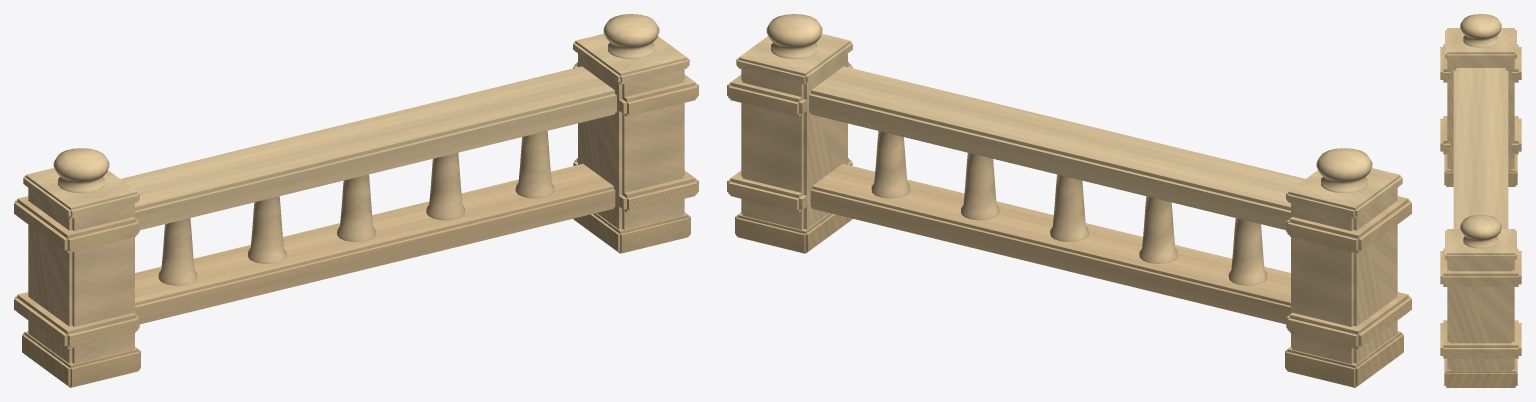
Rendered from summit-rail.glb.
3 renders of one model, left to right at view 1: azimuth 30°, elevation 25°; view 2: azimuth 150°, elevation 25°; view 3: azimuth 270°, elevation 25°, orthographic. The views are drawn at different scales.
Parts seen in each view (by area): view 1: Moonbay observatory ivory stone balustrade; view 2: Moonbay observatory ivory stone balustrade; view 3: Moonbay observatory ivory stone balustrade.
Boxes of the visible parts, left/top/right/bottom form: Moonbay observatory ivory stone balustrade: left=14, top=14, right=698, bottom=387; Moonbay observatory ivory stone balustrade: left=727, top=14, right=1411, bottom=387; Moonbay observatory ivory stone balustrade: left=1440, top=14, right=1521, bottom=387.
Size of the model in its own units: 2.7 by 0.85 by 0.4.
Materials: 1 (1 with a texture image).
